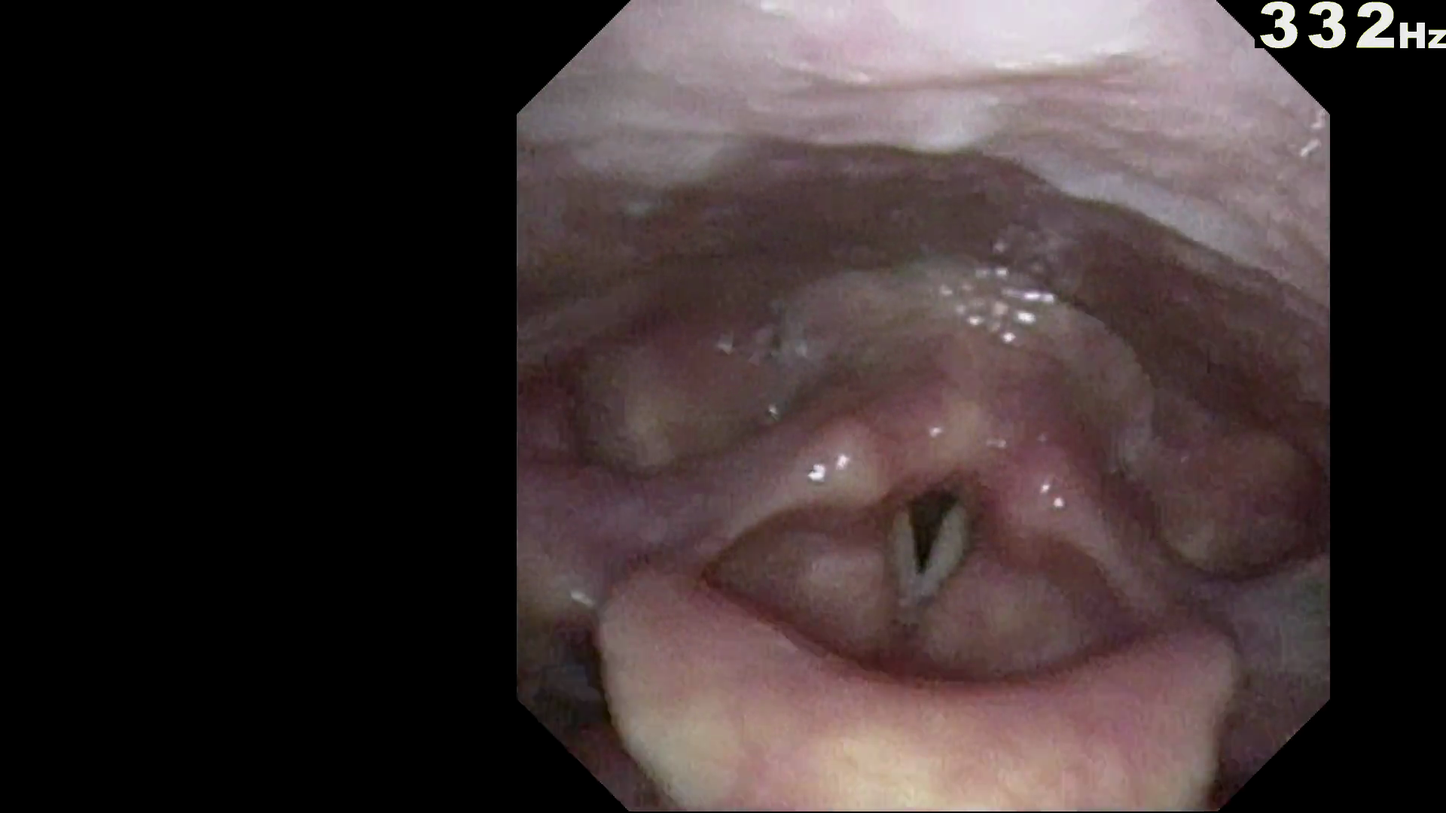epiglottis: (643, 533, 1224, 790)
trachea: (856, 427, 1022, 624)
